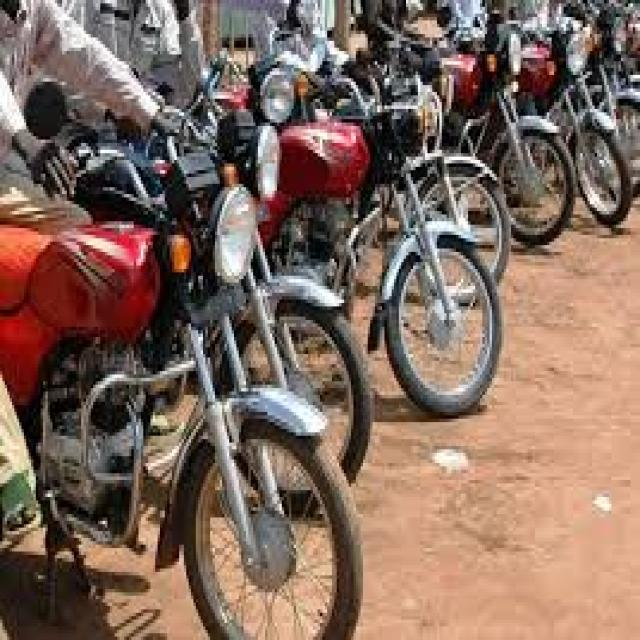bodaboda: (2, 39, 378, 640)
